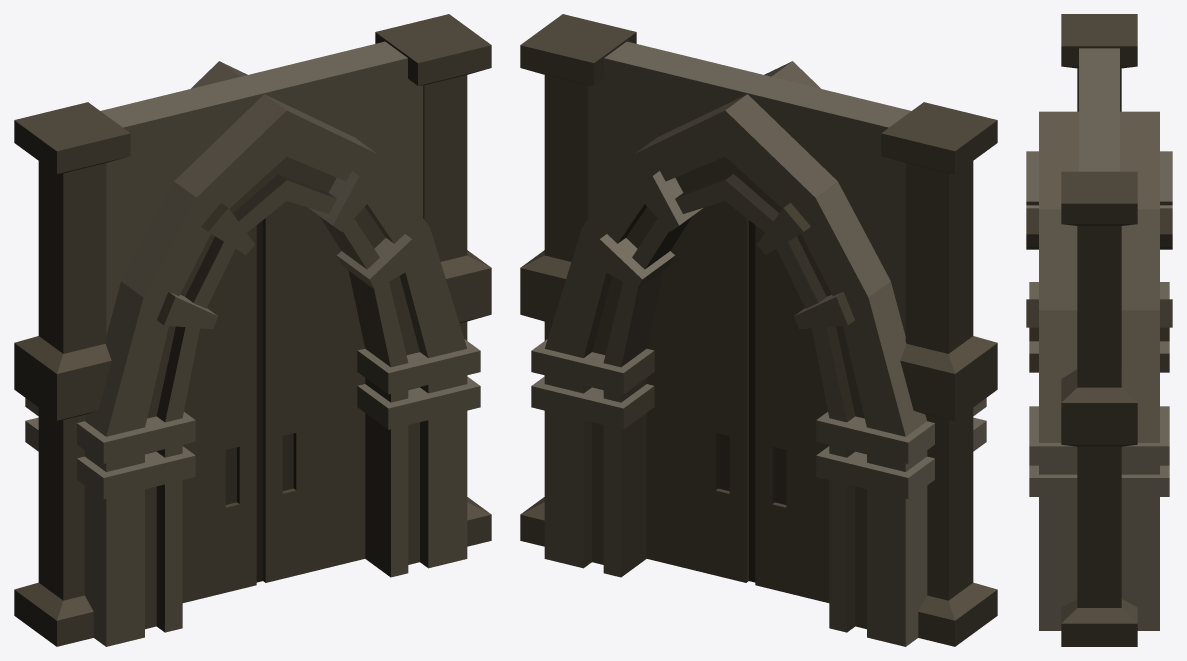
File: SD_Env_Undead_Entrance_01.fbx
The picture shows the model from 3 angles, left to right: view 1: azimuth 30°, elevation 25°; view 2: azimuth 150°, elevation 25°; view 3: azimuth 270°, elevation 25°; orthographic projection. The views are drawn at different scales.
Visible parts, largest first — view 1: SD_Env_Undead_Entrance_01, Door_01, Door_02; view 2: SD_Env_Undead_Entrance_01, Door_01, Door_02; view 3: SD_Env_Undead_Entrance_01.
Boxes of the visible parts, x1,y1,x2,y2 form: SD_Env_Undead_Entrance_01: (14, 14, 491, 646); Door_01: (258, 201, 365, 582); Door_02: (182, 224, 258, 602); SD_Env_Undead_Entrance_01: (520, 14, 997, 646); Door_01: (646, 201, 753, 582); Door_02: (753, 224, 829, 602); SD_Env_Undead_Entrance_01: (1026, 14, 1172, 646).
Size of the model in its own units: 9.23 by 10.04 by 3.01.
